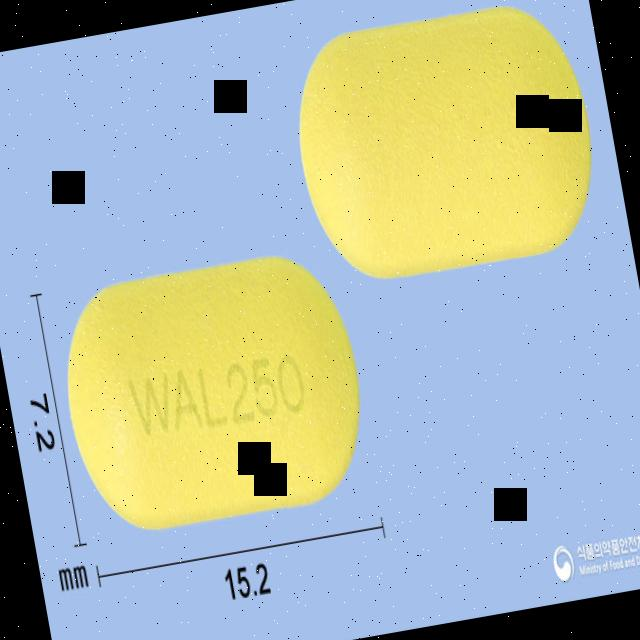Clotin: (48, 242, 378, 540)
